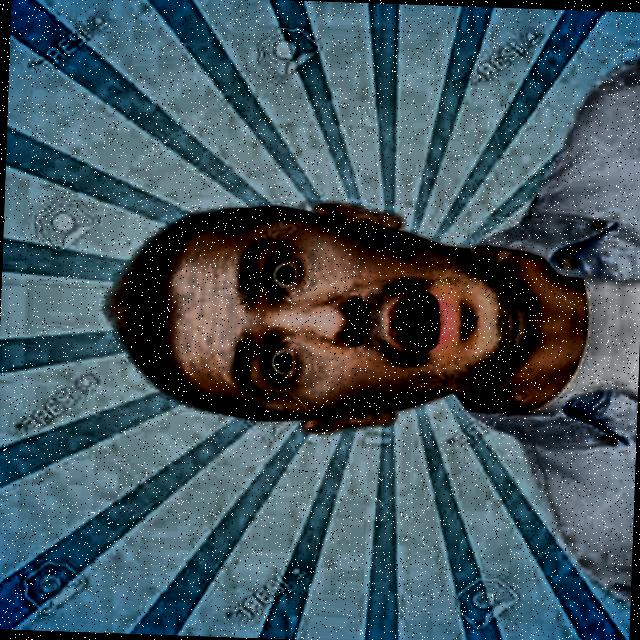surprised: (99, 179, 539, 441)
